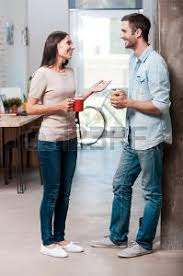person: (114, 15, 170, 124), (32, 29, 88, 136)
